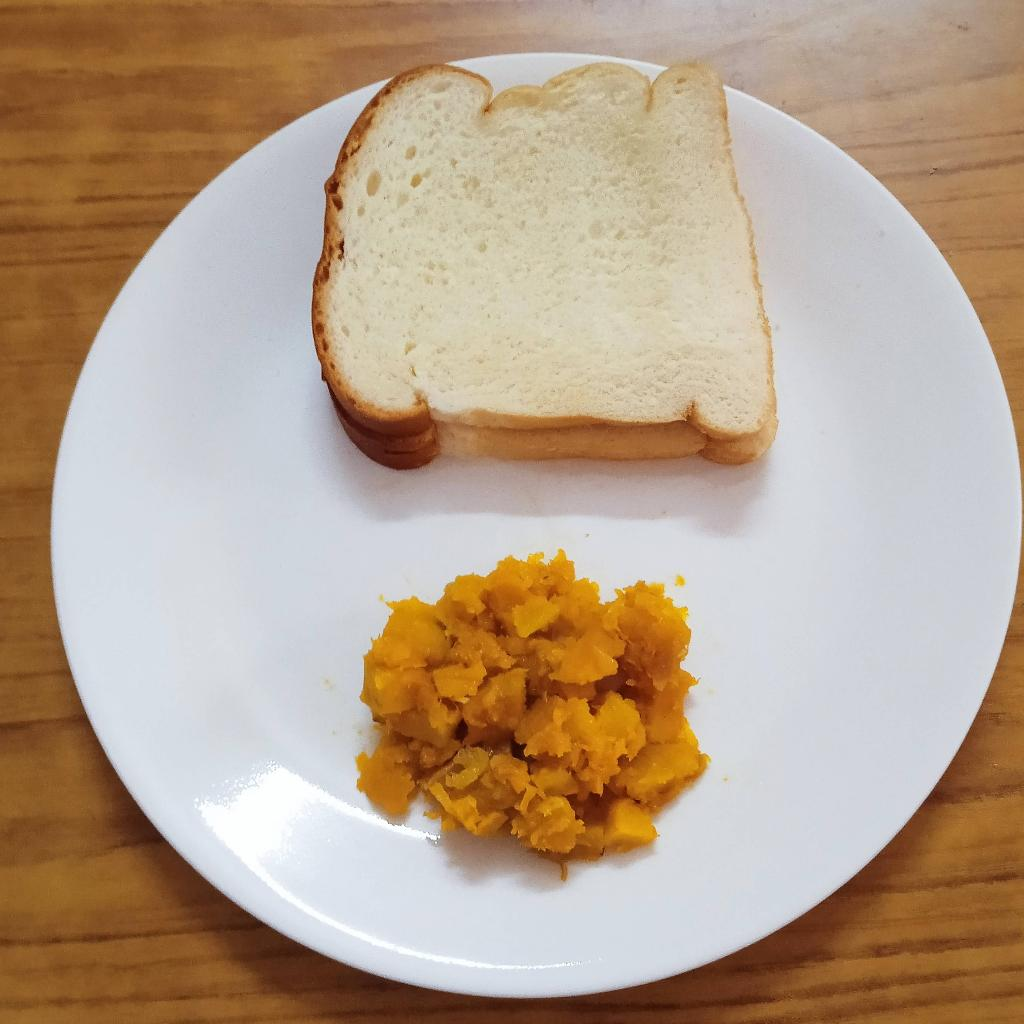bread: (312, 63, 777, 469)
kumra-vaji: (357, 551, 709, 856)
